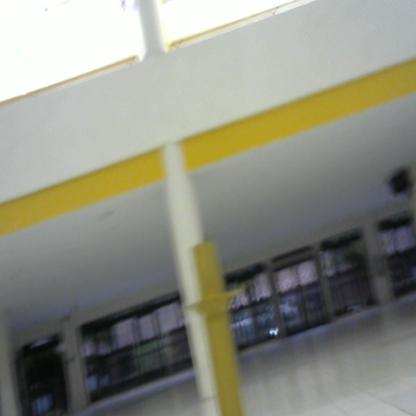pole: (175, 230, 261, 416)
